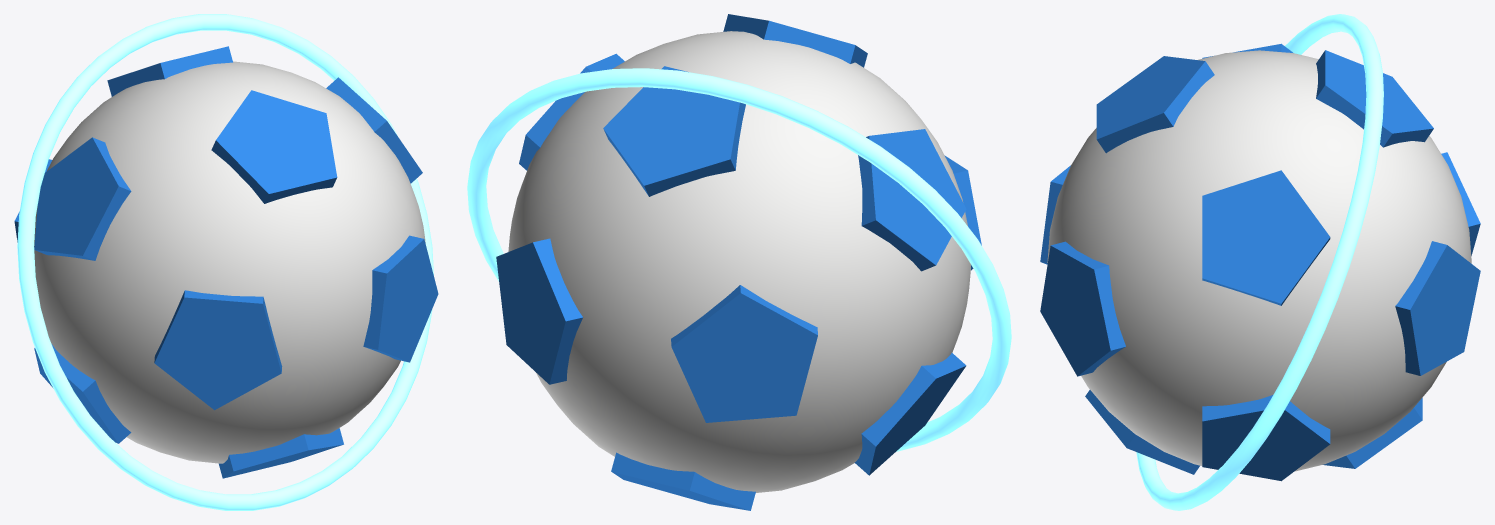
File: weapon.glb
The picture shows the model from 3 angles, left to right: view 1: azimuth 30°, elevation 25°; view 2: azimuth 150°, elevation 25°; view 3: azimuth 270°, elevation 25°; orthographic projection. The views are drawn at different scales.
Parts seen in each view (by area): view 1: weapon; view 2: weapon; view 3: weapon.
Boxes of the visible parts, box(x1,y1,x2,y2) form: weapon: box(14, 14, 438, 510); weapon: box(467, 14, 1011, 510); weapon: box(1040, 14, 1480, 510).
Size of the model in its own units: 1.6 by 1.46 by 1.35.
